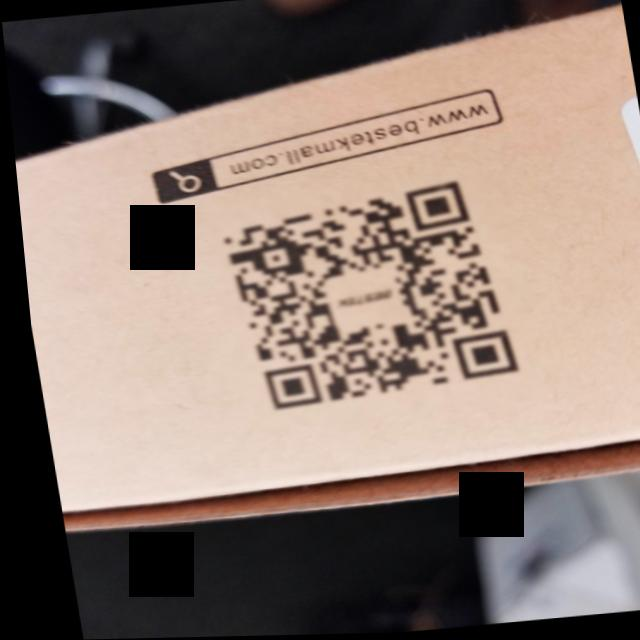QR_CODE: (196, 172, 540, 429)
